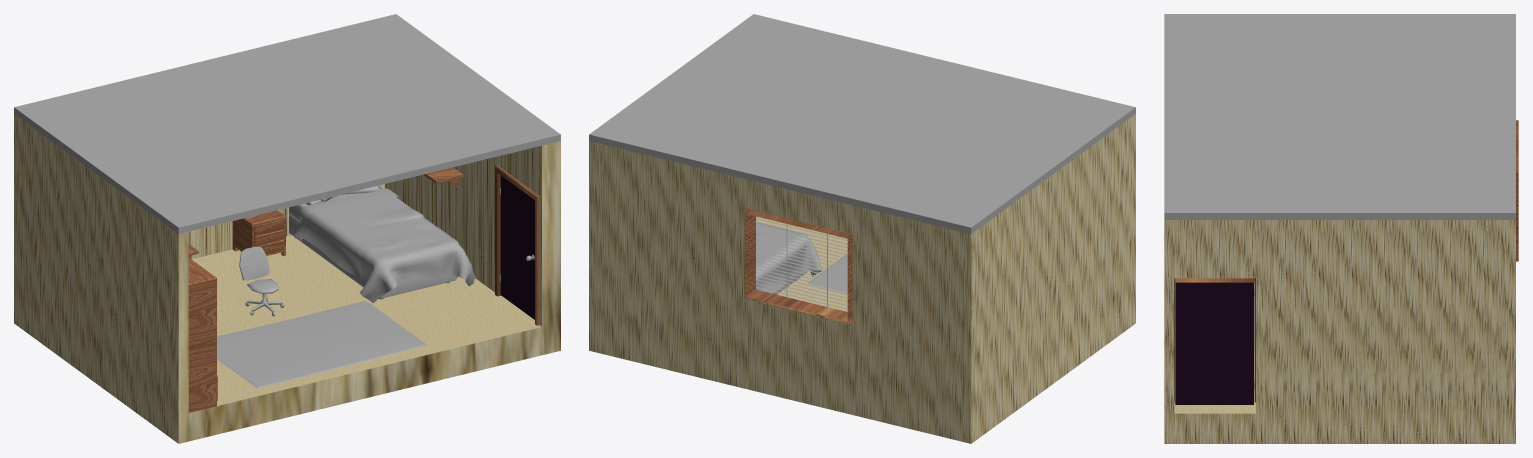
File: Room 1.fbx
3 renders of one model, left to right at view 1: azimuth 30°, elevation 25°; view 2: azimuth 150°, elevation 25°; view 3: azimuth 270°, elevation 25°, orthographic. The views are drawn at different scales.
Parts seen in each view (by area): view 1: polySurface24, pCube67, BedSheet, Rug, Door, Shelf, polySurface26, Bed1, Bedside_table, pCube18; view 2: polySurface24, pCube67, polySurface25, BedSheet, Rug; view 3: pCube67, polySurface24, Door, polySurface26, polySurface25.
Boxes of the visible parts, x1,y1,x2,y2 form: polySurface24: [14, 114, 560, 443]; pCube67: [14, 14, 560, 233]; BedSheet: [294, 188, 475, 303]; Rug: [217, 301, 426, 388]; Door: [500, 175, 534, 319]; Shelf: [188, 257, 216, 412]; polySurface26: [495, 165, 539, 325]; Bed1: [289, 214, 457, 297]; Bedside_table: [232, 210, 285, 255]; pCube18: [239, 246, 269, 280]; polySurface24: [589, 114, 1135, 443]; pCube67: [589, 14, 1135, 233]; polySurface25: [745, 208, 852, 324]; BedSheet: [756, 222, 822, 293]; Rug: [808, 254, 847, 293]; pCube67: [1164, 14, 1515, 219]; polySurface24: [1164, 220, 1515, 443]; Door: [1175, 282, 1253, 404]; polySurface26: [1174, 278, 1255, 402]; polySurface25: [1516, 120, 1518, 261].
Bounding box in the file's own units: 14.12 × 7.61 × 10.58.
